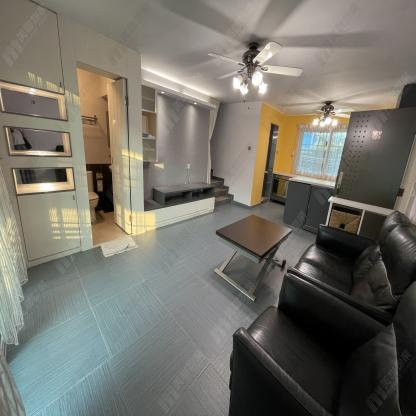Dining Table: (214, 214, 292, 302)
Sofa: (227, 210, 416, 416)
